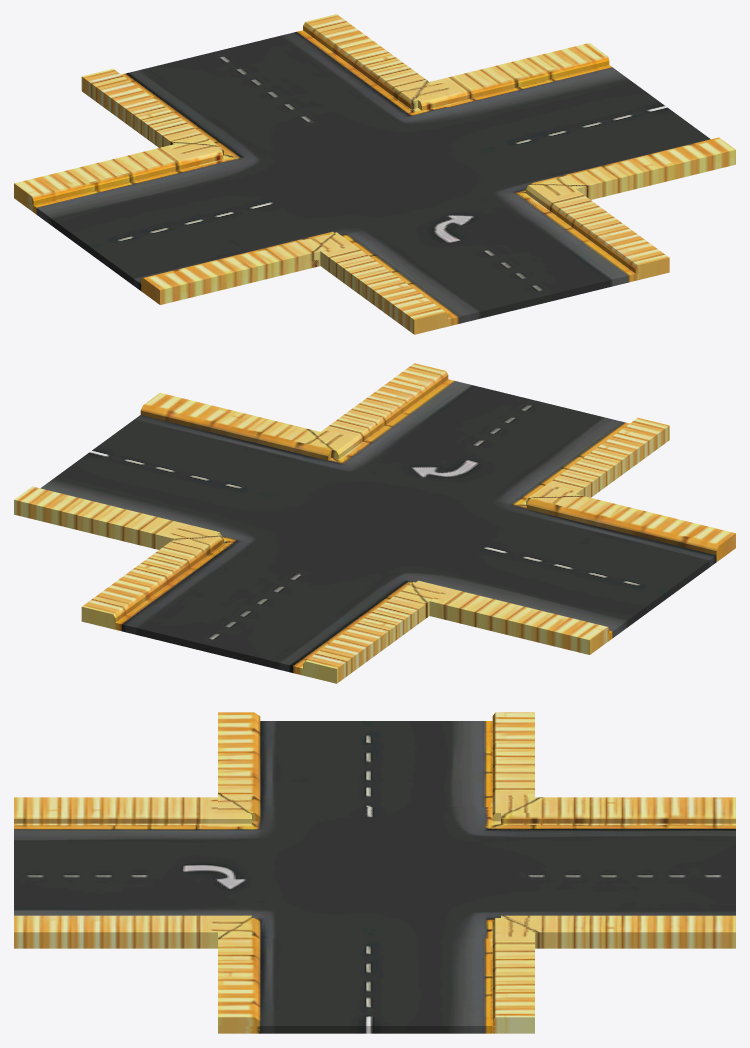
The model's file is Road2.glb.
3 renders of one model, top to bottom at view 1: azimuth 30°, elevation 25°; view 2: azimuth 150°, elevation 25°; view 3: azimuth 270°, elevation 25°, orthographic. The views are drawn at different scales.
Visible parts, largest first — view 1: Road2; view 2: Road2; view 3: Road2.
Boxes of the visible parts, x1,y1,x2,y2 form: Road2: [14, 14, 735, 334]; Road2: [14, 363, 735, 683]; Road2: [14, 712, 735, 1033].
Bounding box in the file's own units: 255 × 6.29 × 255.
1 material, 1 textured.
